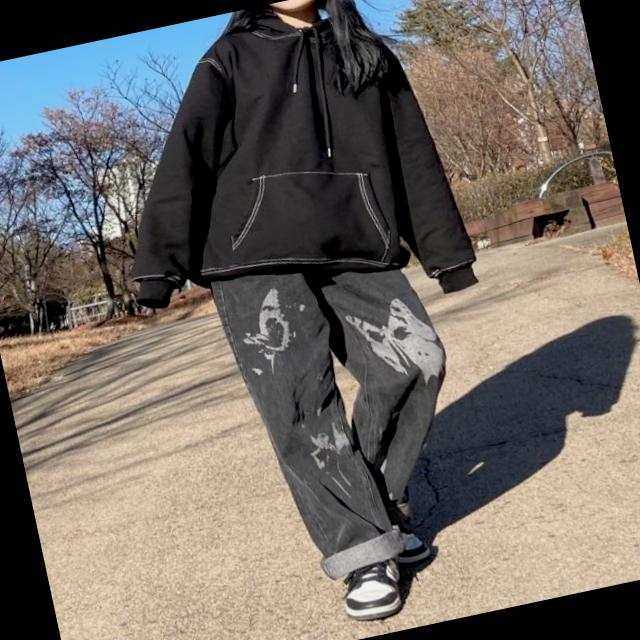denimpants: (206, 228, 484, 586)
hoodies: (74, 0, 484, 359)
